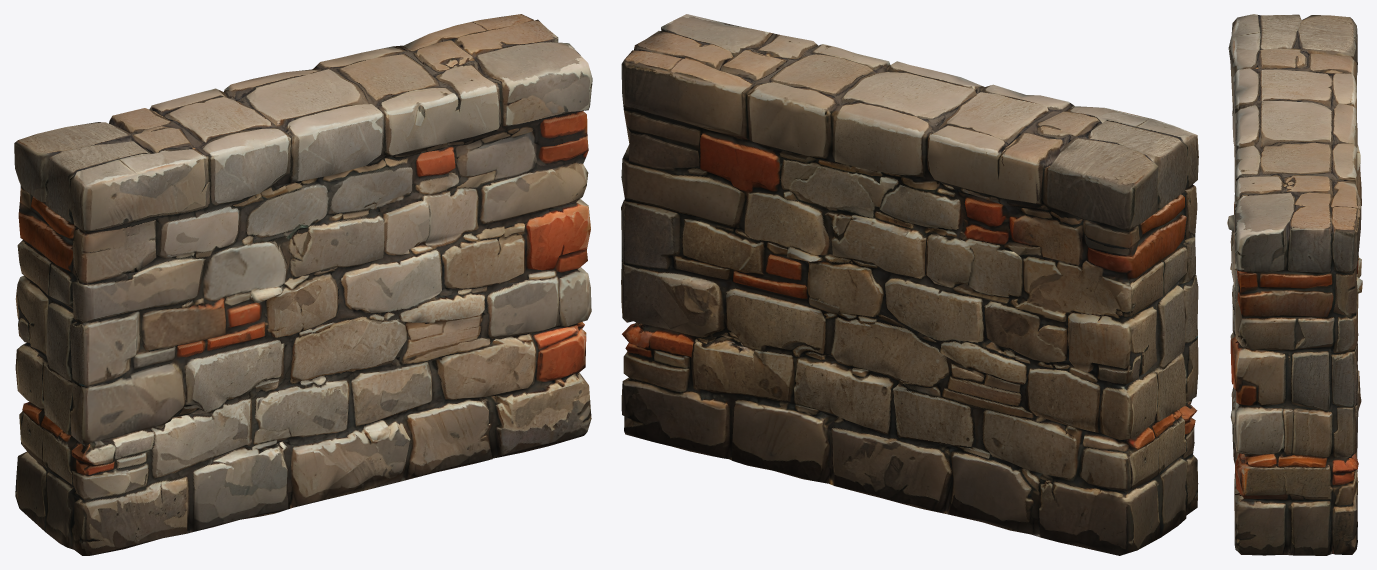
File: Settle_Patch_Blocks.fbx
3 views of the same model, side by side, from view 1: azimuth 30°, elevation 25°; view 2: azimuth 150°, elevation 25°; view 3: azimuth 270°, elevation 25° (orthographic). The views are drawn at different scales.
Parts seen in each view (by area): view 1: texture_mapping; view 2: texture_mapping; view 3: texture_mapping.
Boxes of the visible parts, x1=… form: texture_mapping: x1=14, y1=14, x2=592, y2=555; texture_mapping: x1=621, y1=14, x2=1198, y2=555; texture_mapping: x1=1227, y1=14, x2=1362, y2=555.
Bounding box in the file's own units: 1 × 0.2628 × 0.71.
Materials: 1 (1 with a texture image).
